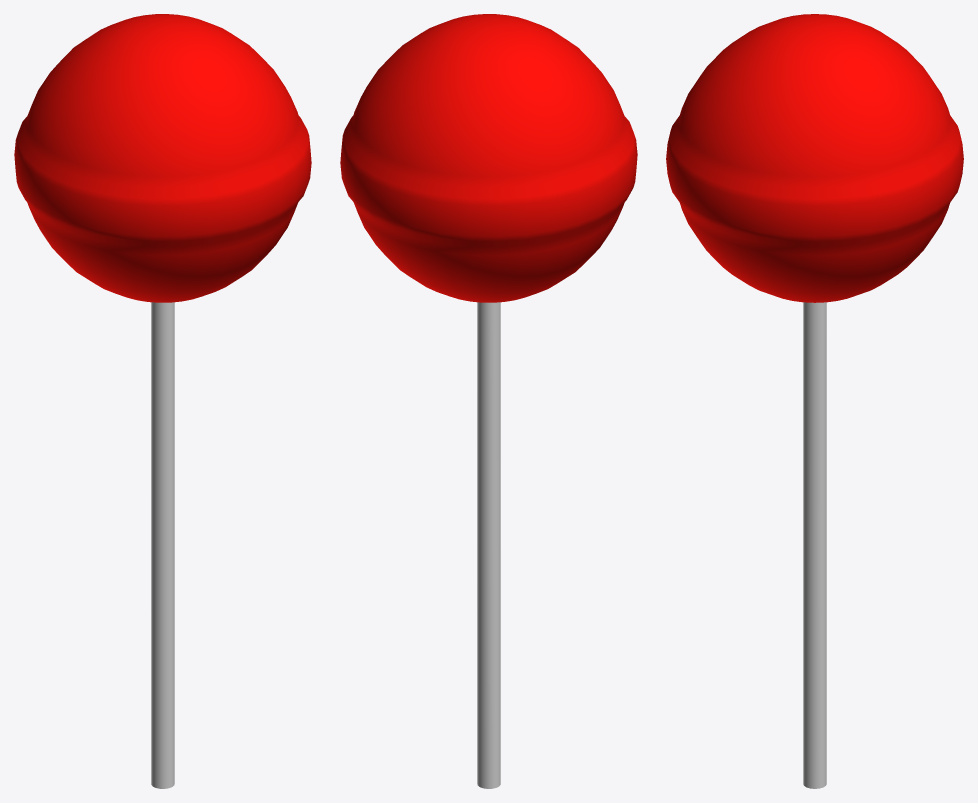
File: Lolipop_red.fbx
The picture shows the model from 3 angles, left to right: view 1: azimuth 30°, elevation 25°; view 2: azimuth 150°, elevation 25°; view 3: azimuth 270°, elevation 25°; orthographic projection.
Parts seen in each view (by area): view 1: Head, Stick; view 2: Head, Stick; view 3: Head, Stick.
Part boxes in pixels (x1,y1,x2,y2): Head: (14,14,311,302); Stick: (151,302,174,788); Head: (340,14,637,302); Stick: (477,302,500,788); Head: (666,14,963,302); Stick: (803,302,826,788).
Size of the model in its own units: 3.01 by 8.45 by 3.01.
